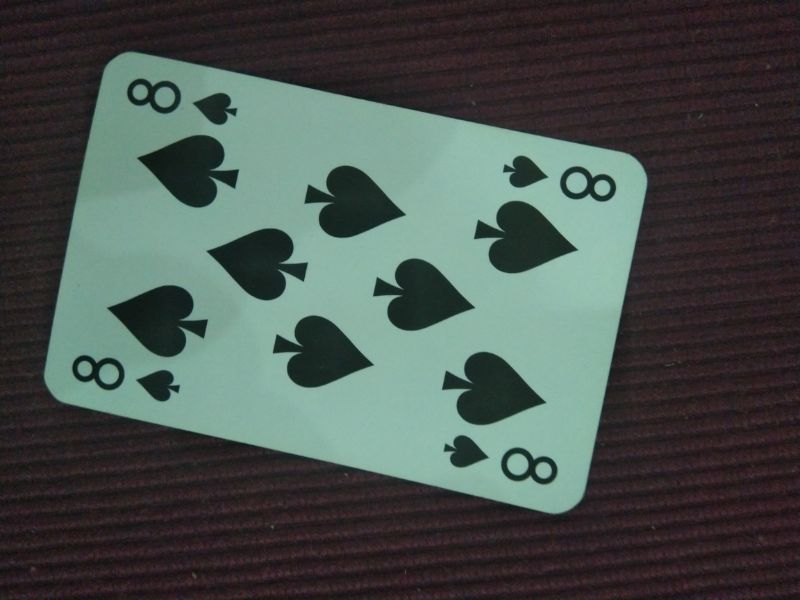8s: (439, 432, 562, 489), (500, 149, 617, 204), (122, 76, 245, 128), (67, 352, 186, 404)
